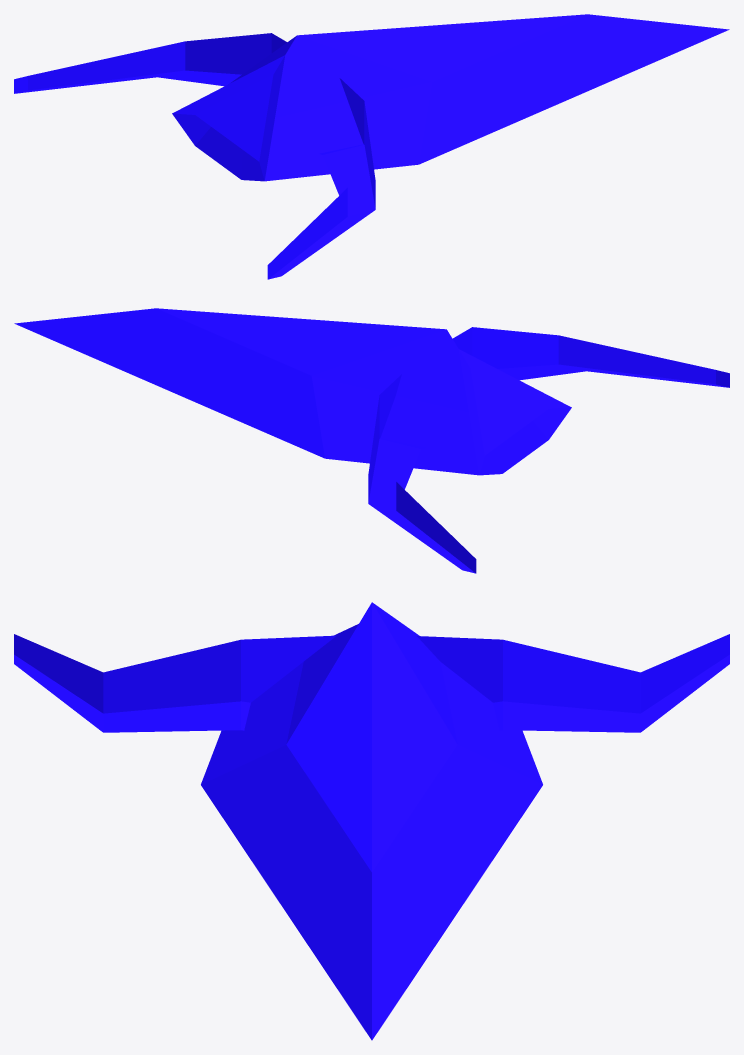
Rendered from LiveUpfbx.fbx.
3 renders of one model, top to bottom at view 1: azimuth 30°, elevation 25°; view 2: azimuth 150°, elevation 25°; view 3: azimuth 270°, elevation 25°, orthographic. The views are drawn at different scales.
Visible parts, largest first — view 1: Cube; view 2: Cube; view 3: Cube.
Boxes of the visible parts, x1,y1,x2,y2 form: Cube: (14, 14, 729, 279); Cube: (14, 308, 729, 573); Cube: (14, 602, 729, 1040).
Bounding box in the file's own units: 792 × 148 × 591.
